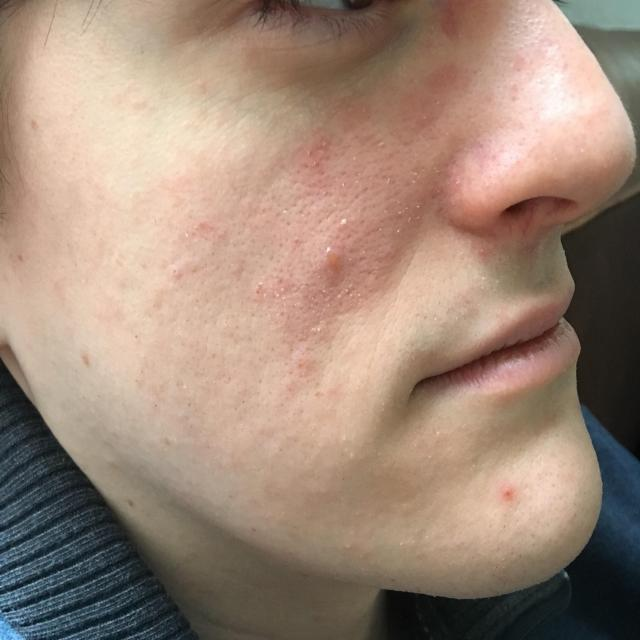Acne: (250, 263, 301, 332), (312, 240, 354, 302), (424, 66, 467, 117), (296, 130, 339, 180), (421, 0, 470, 38), (156, 251, 196, 292), (195, 208, 233, 248), (70, 342, 102, 382), (472, 232, 504, 264), (493, 472, 522, 506), (26, 108, 52, 138)
